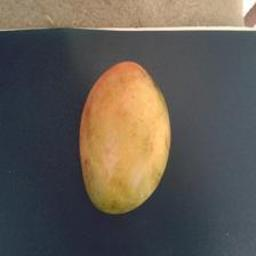Mango Fresh: (65, 42, 178, 217)
